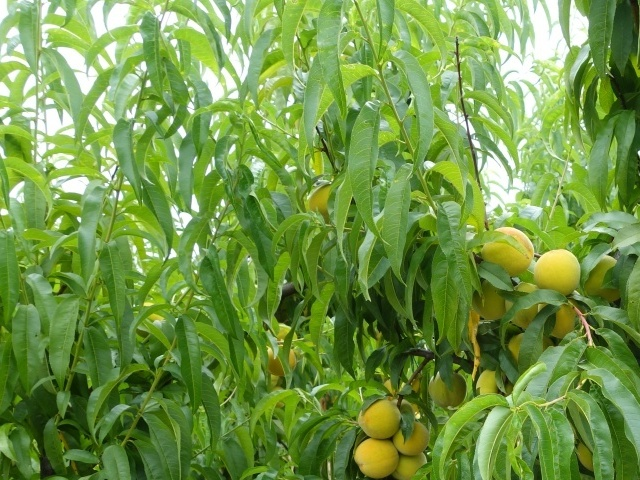peach: (525, 246, 583, 300), (481, 226, 534, 279), (354, 395, 406, 442), (473, 360, 520, 410), (583, 253, 630, 303), (465, 276, 513, 322), (506, 280, 554, 326), (540, 299, 589, 343), (425, 367, 470, 414), (389, 414, 435, 458), (300, 180, 339, 221), (262, 343, 300, 378)
